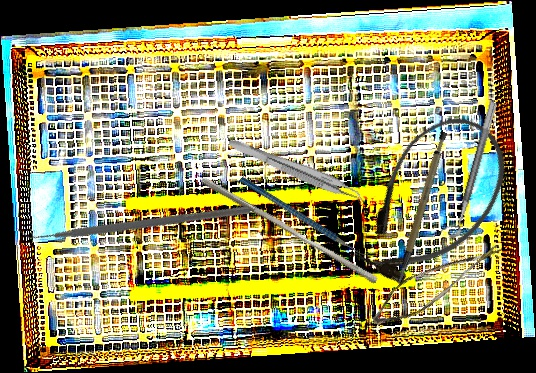Cannula: (334, 97, 529, 305)
Chopper: (13, 102, 252, 334), (238, 141, 377, 292)
Fixation Ring: (438, 97, 499, 242)
Micro Scissor: (366, 217, 503, 346)
Pusher: (196, 176, 382, 285)
Scalpel Handle: (373, 129, 467, 285)
Tissue Forceps: (224, 136, 368, 207)
